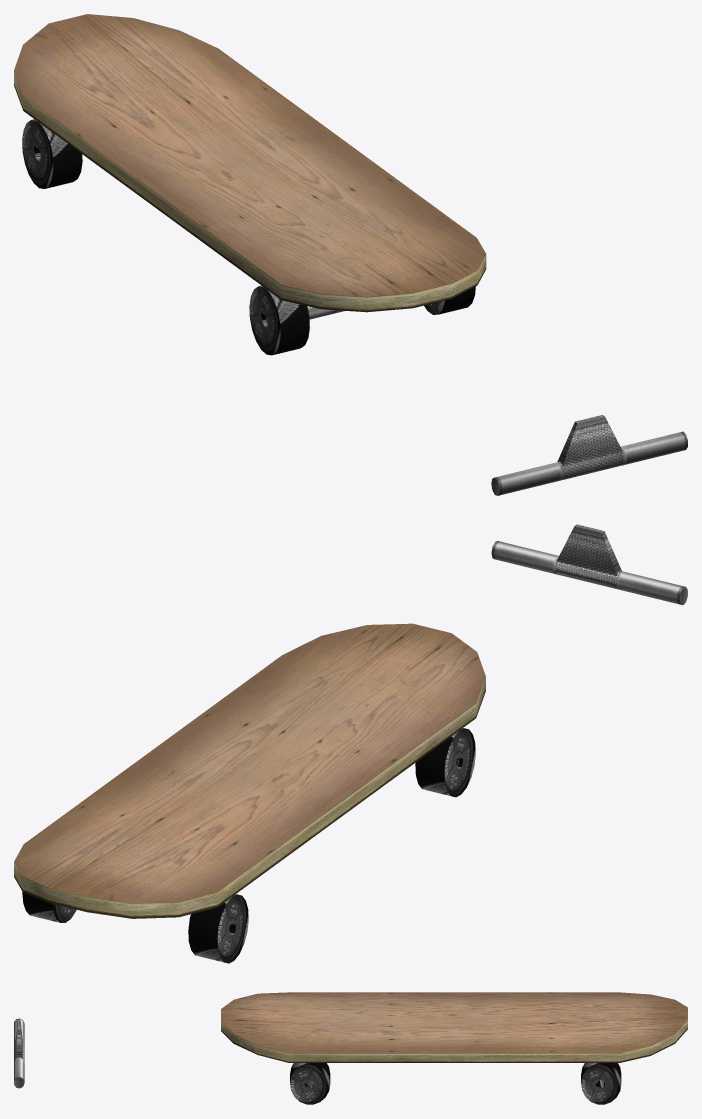
The model's file is Skateboard.glb.
The picture shows the model from 3 angles, top to bottom: view 1: azimuth 30°, elevation 25°; view 2: azimuth 150°, elevation 25°; view 3: azimuth 270°, elevation 25°; orthographic projection. The views are drawn at different scales.
Visible parts, largest first — view 1: Skateboard; view 2: Skateboard; view 3: Skateboard.
Boxes of the visible parts, x1=… form: Skateboard: x1=14, y1=14, x2=687, y2=495; Skateboard: x1=14, y1=524, x2=687, y2=963; Skateboard: x1=14, y1=992, x2=687, y2=1104.
Size of the model in its own units: 3.06 by 1.42 by 14.28.
Materials: 4 (4 with a texture image).
